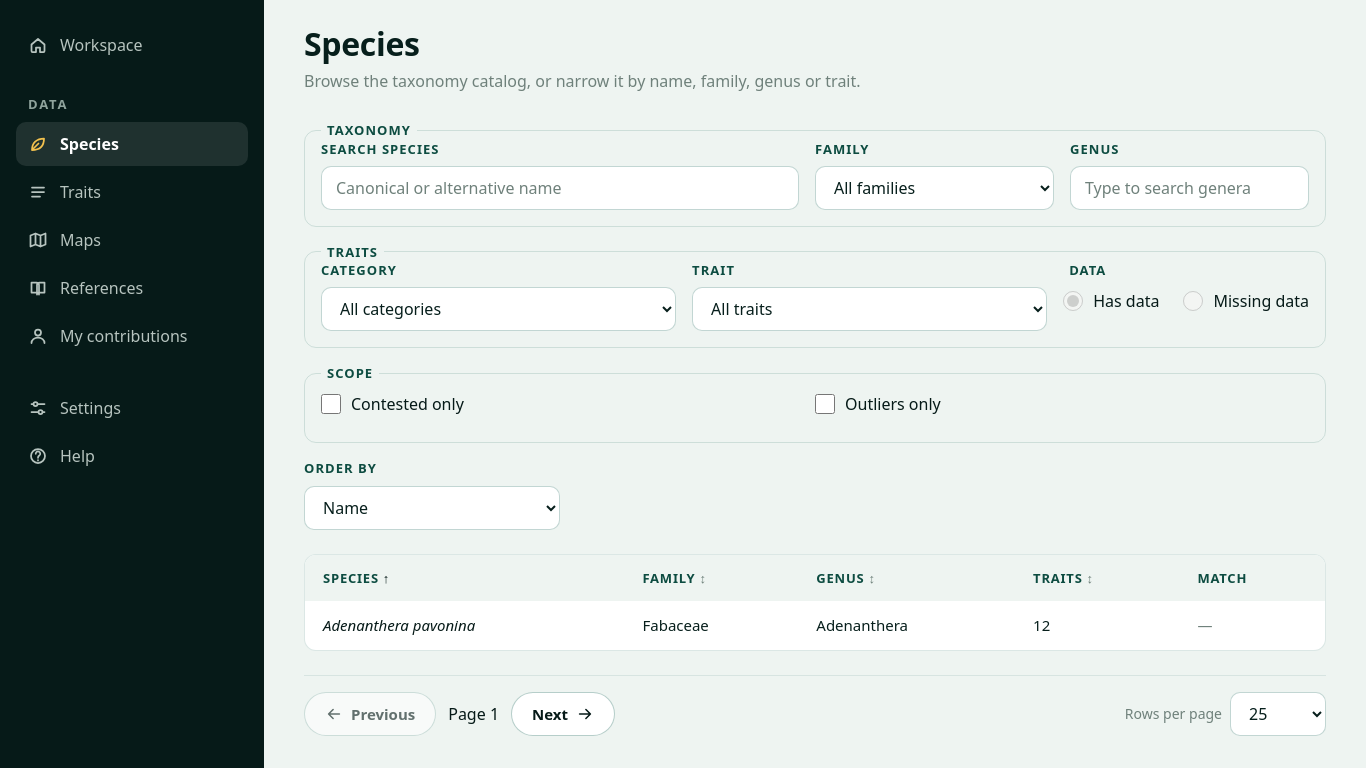
it: RFC-60 R6 SpeciesSearchPage trait filters, order and the URL › drops the cursor when the order changes: a name cursor is invalid under completeness
This screenshot has width=1366, height=768.
(page scrolled)
Expected: the heading "Species" is shown, x1=304 y1=22 x2=420 y2=65
Expected: the link "Adenanthera pavonina" is shown, x1=323 y1=615 x2=475 y2=636
Click the button "Next" at (563, 714), box x1=511 y1=692 x2=615 y2=736
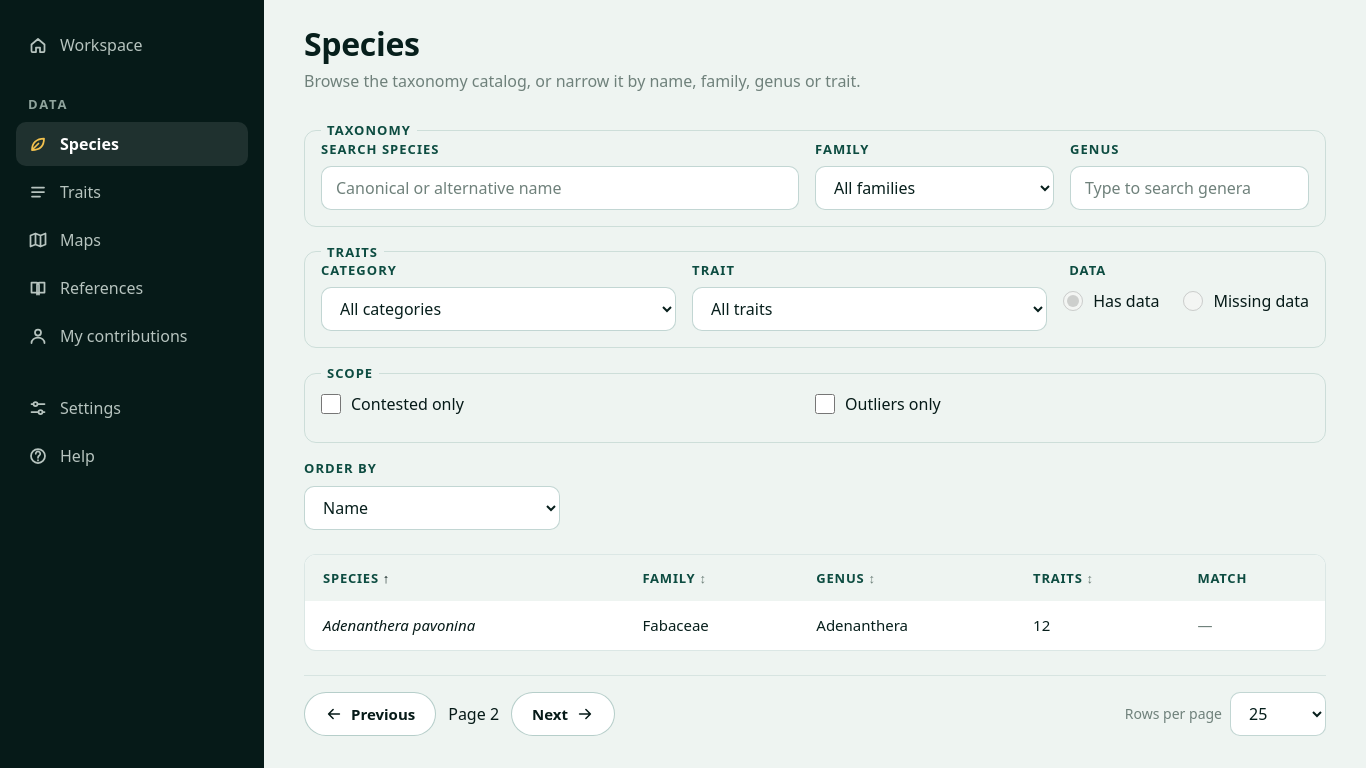
Expected: the text "Page 2" is shown, x1=448 y1=702 x2=499 y2=726
Select "Most incomplete first" in the dropdown labelled "Order by" at (432, 508), box x1=304 y1=486 x2=560 y2=530
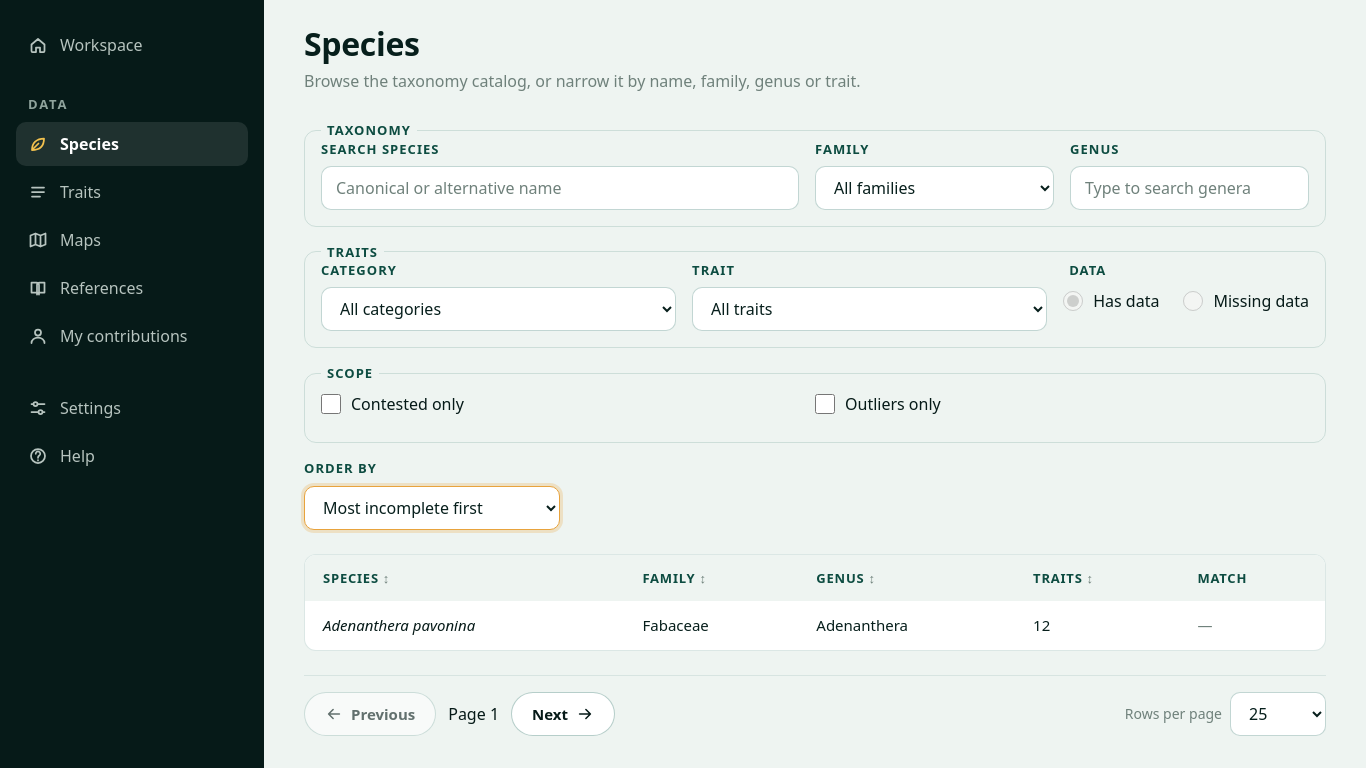
Expected: the text "Page 1" is shown, x1=448 y1=702 x2=499 y2=726
